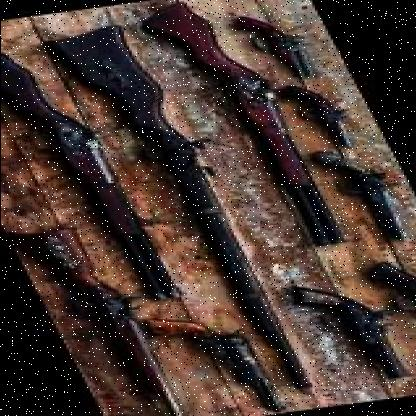rifle: (78, 24, 333, 396), (154, 0, 358, 250)
